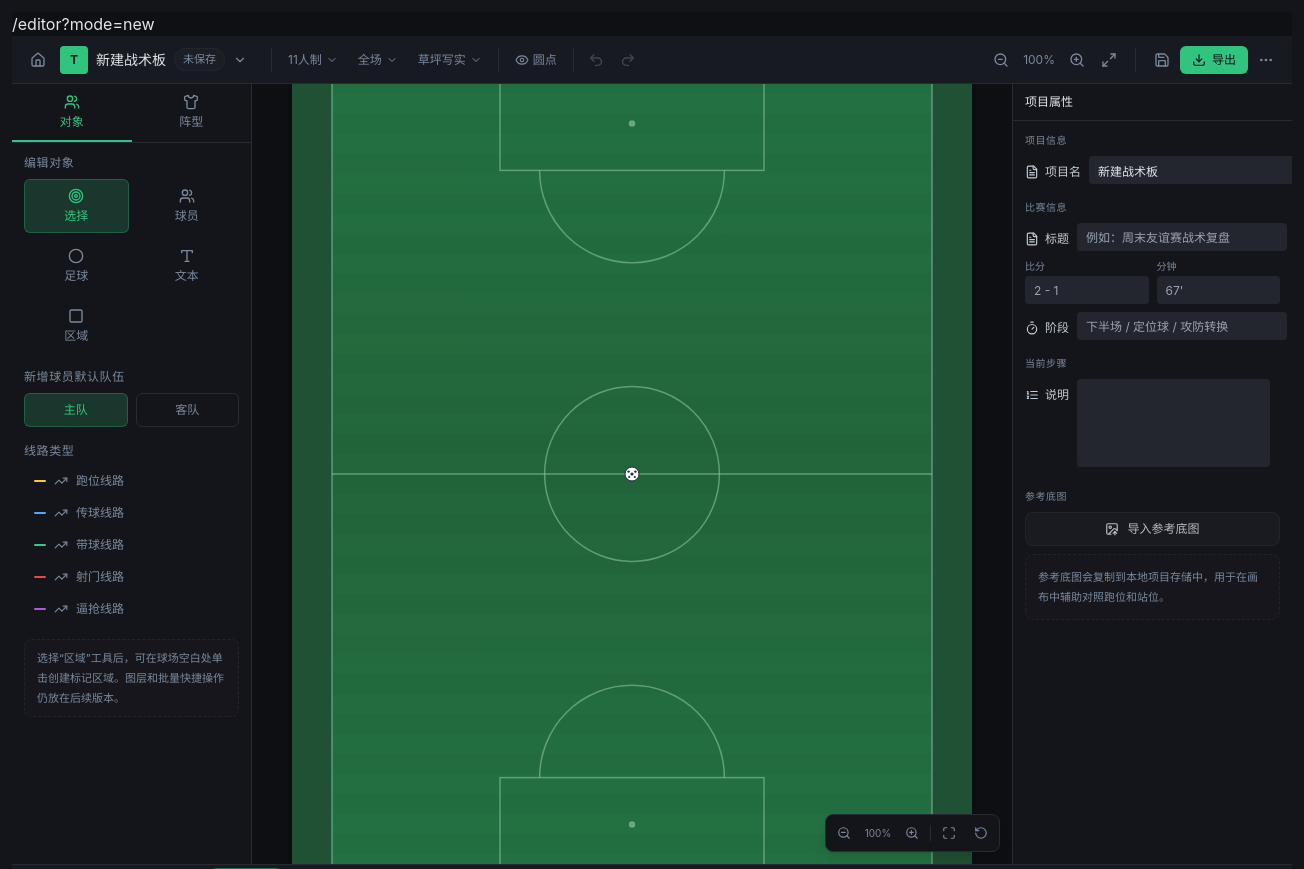
Test: editor save integrity › marks a saved project dirty when only the placement team changes
Click the button named "保存项目" at (1162, 60), box [1148,46,1176,74]
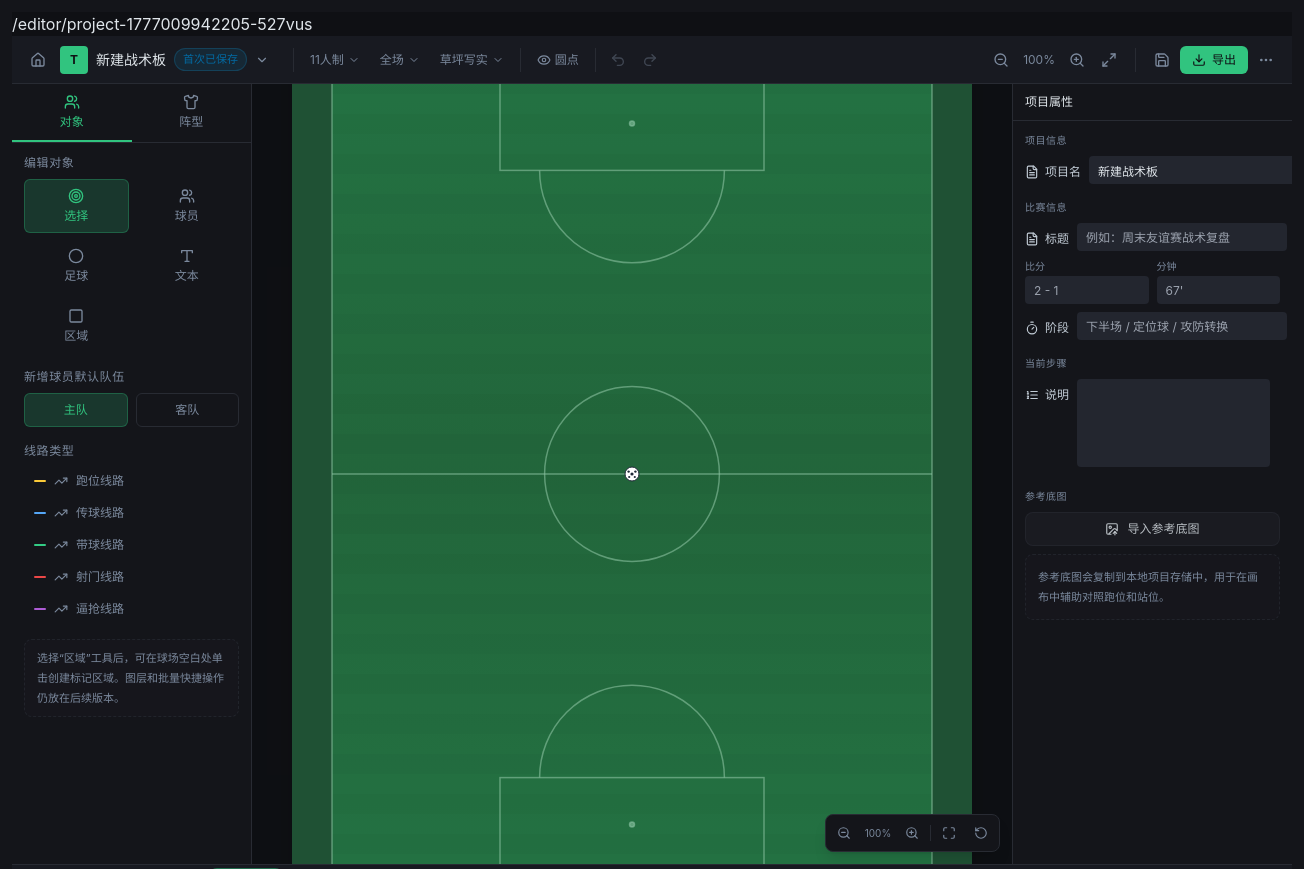
Now the text "首次已保存" is shown, box [174,48,247,71]
Now the text with test id "location-probe" shows "/editor/project-", box [12,14,312,34]
Click the button "客队" at (187, 410), box [136,393,239,427]
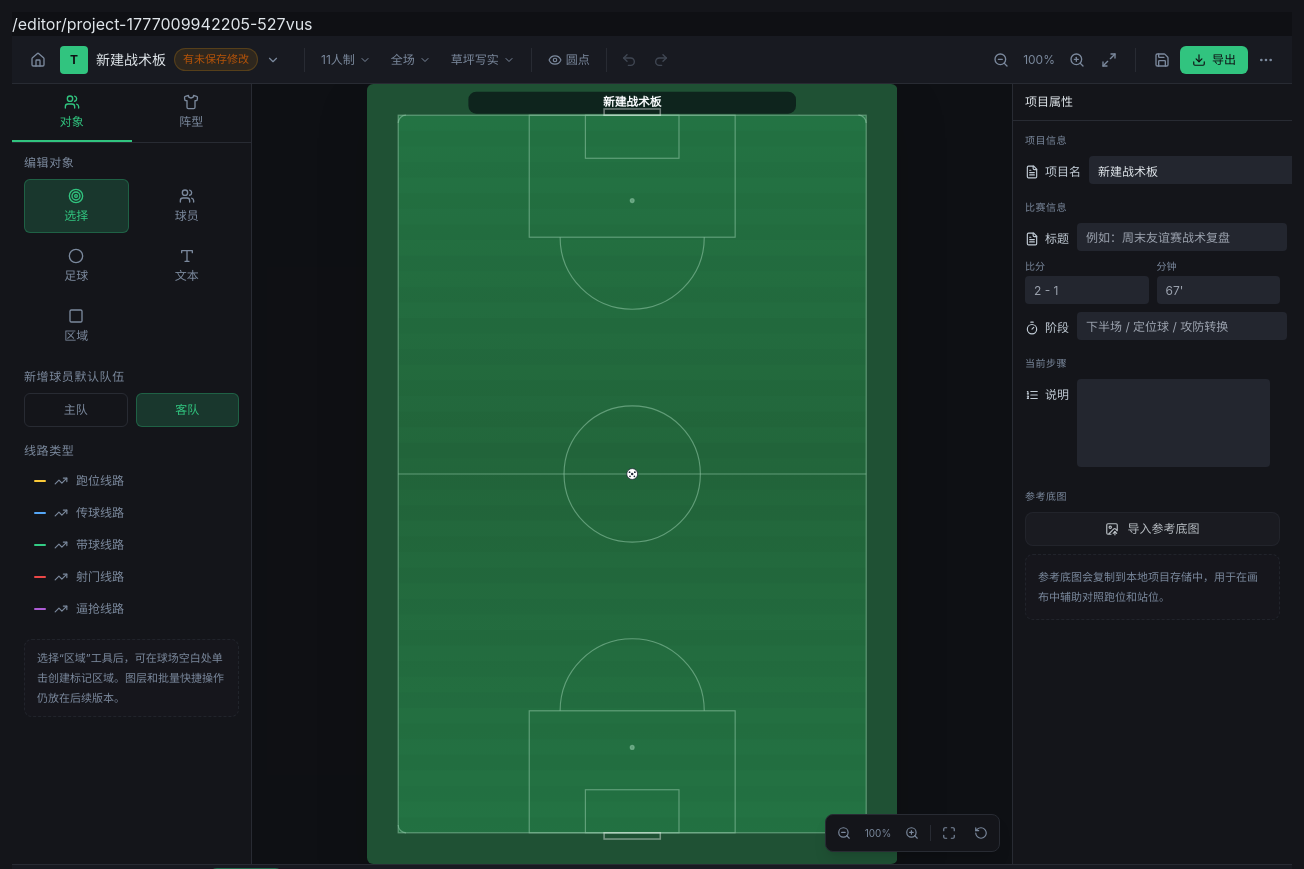
Now the text "有未保存修改" is shown, box [174,48,258,71]
